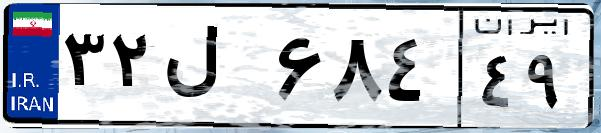2: (110, 28, 158, 98)
3: (57, 26, 110, 100)
4: (385, 28, 445, 110), (475, 38, 525, 113)
6: (270, 28, 330, 110)
8: (330, 28, 385, 110)
9: (525, 38, 570, 115)
ل: (158, 20, 270, 120)
